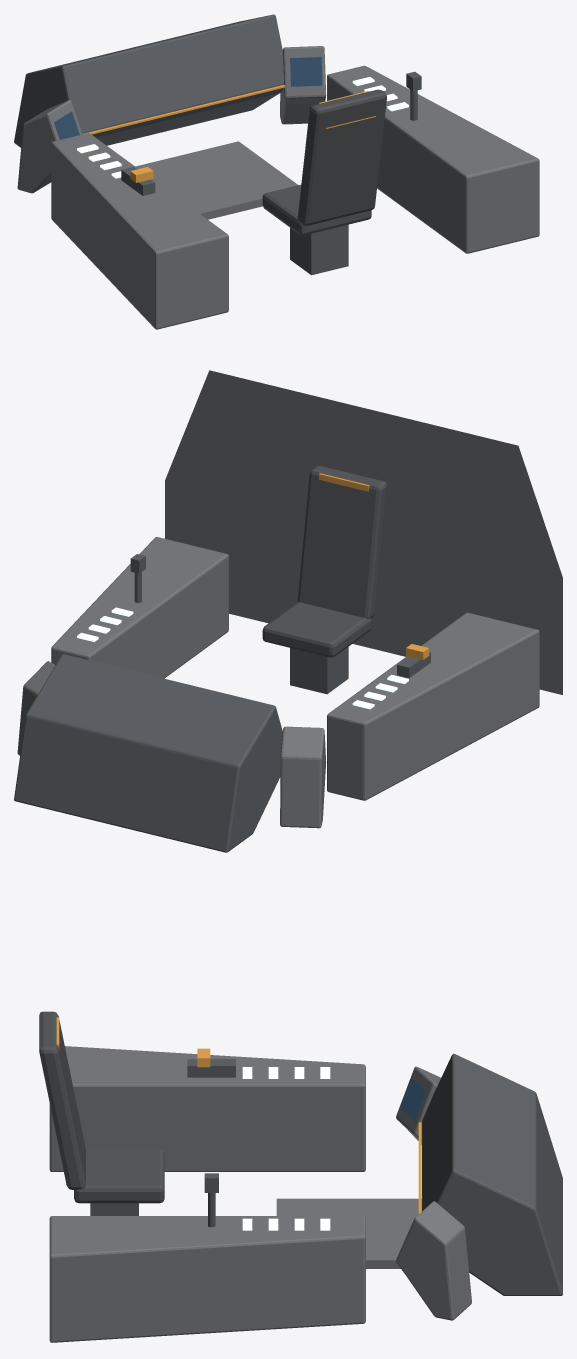
File: hauler_cockpit.glb
3 renders of one model, top to bottom at view 1: azimuth 30°, elevation 25°; view 2: azimuth 150°, elevation 25°; view 3: azimuth 270°, elevation 25°, orthographic. The views are drawn at different scales.
Parts seen in each view (by area): view 1: Cockpit_Panel, Cockpit_Trim, Cockpit_Cabin, Cockpit_Screen, Cockpit_Accent, Cockpit_Glow; view 2: Cockpit_Panel, Cockpit_Trim, Cockpit_Cabin, Cockpit_Glow, Cockpit_Accent; view 3: Cockpit_Panel, Cockpit_Trim, Cockpit_Cabin, Cockpit_Glow, Cockpit_Accent, Cockpit_Screen.
Part boxes in pixels (left/top/right/bottom): Cockpit_Panel: left=17, top=46, right=539, bottom=329; Cockpit_Trim: left=14, top=14, right=421, bottom=275; Cockpit_Cabin: left=262, top=89, right=386, bottom=235; Cockpit_Screen: left=54, top=57, right=322, bottom=139; Cockpit_Accent: left=83, top=85, right=375, bottom=182; Cockpit_Glow: left=77, top=77, right=408, bottom=178; Cockpit_Panel: left=17, top=370, right=562, bottom=828; Cockpit_Trim: left=14, top=554, right=430, bottom=852; Cockpit_Cabin: left=262, top=465, right=386, bottom=657; Cockpit_Glow: left=77, top=607, right=408, bottom=709; Cockpit_Accent: left=319, top=473, right=429, bottom=659; Cockpit_Panel: left=49, top=1046, right=471, bottom=1342; Cockpit_Trim: left=90, top=1053, right=562, bottom=1295; Cockpit_Cabin: left=39, top=1011, right=164, bottom=1203; Cockpit_Glow: left=242, top=1067, right=330, bottom=1230; Cockpit_Accent: left=56, top=1017, right=421, bottom=1213; Cockpit_Screen: left=400, top=1078, right=425, bottom=1120.
Size of the model in its own units: 3.19 by 1.85 by 3.39.
